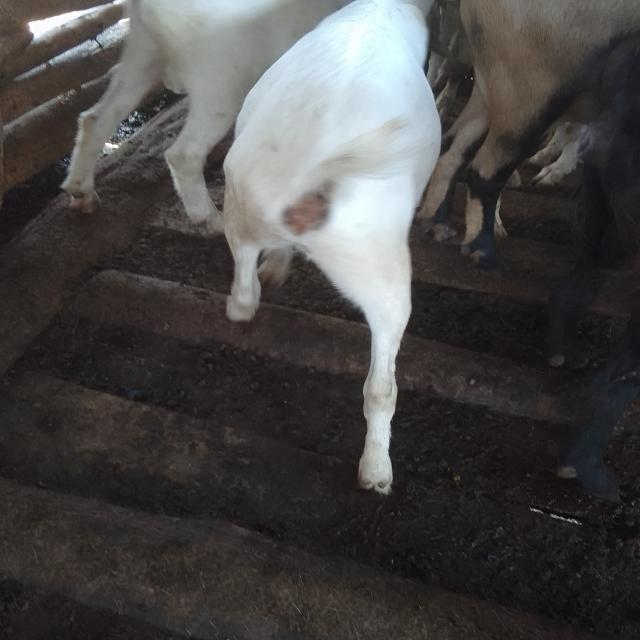goat: (189, 0, 486, 511)
